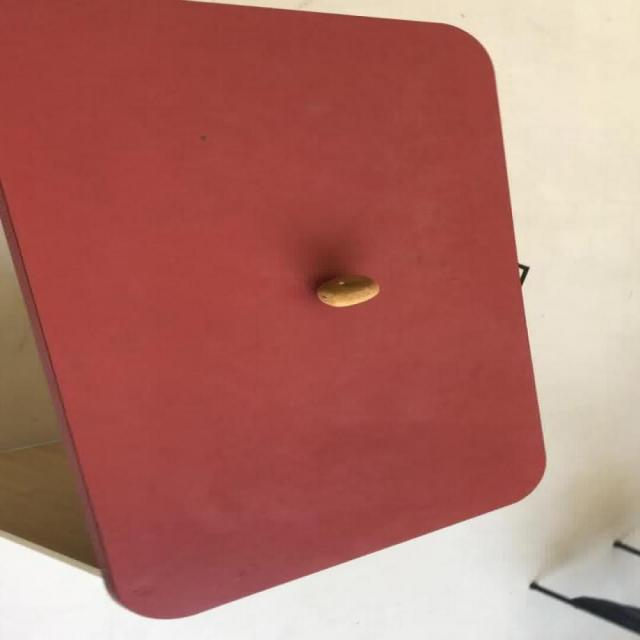Kiwi: (314, 274, 379, 307)
